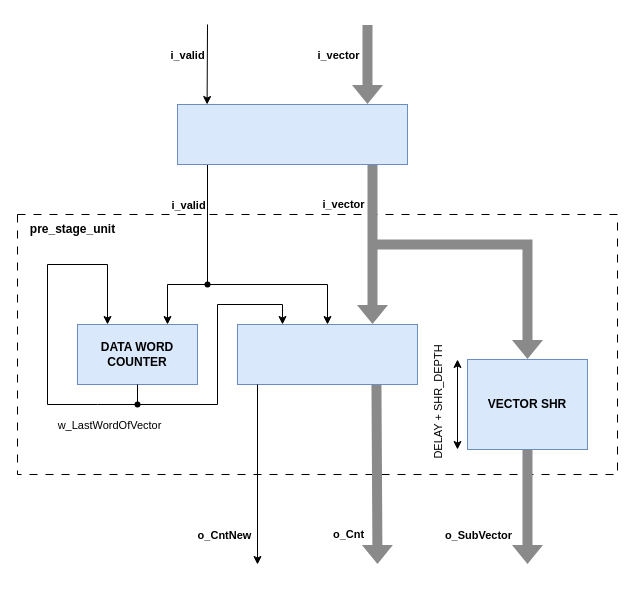
Some shapes in this 635 by 590 pixel diagram are drawn without their labels. The box of each missing label's shape, as (x1, y1, x2, y2) in pixels:
BIT COUNTER MODULE: (236, 324, 418, 384)
VEC_CAT: (176, 104, 408, 164)
